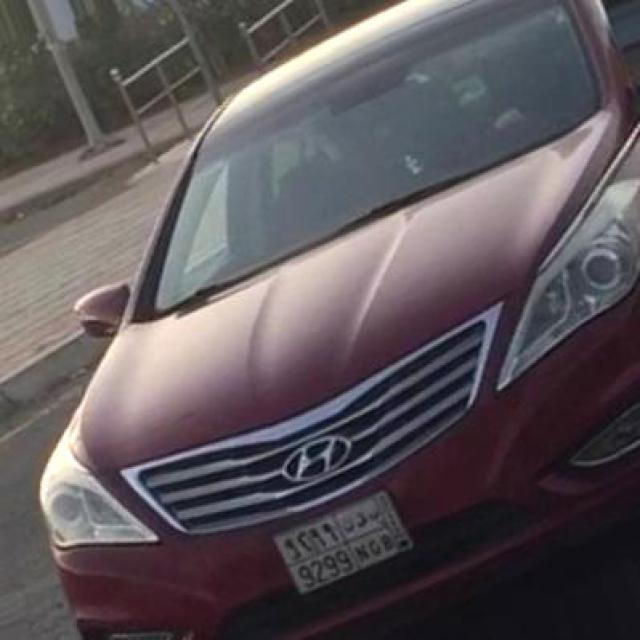Car-plate: (272, 475, 438, 614)
